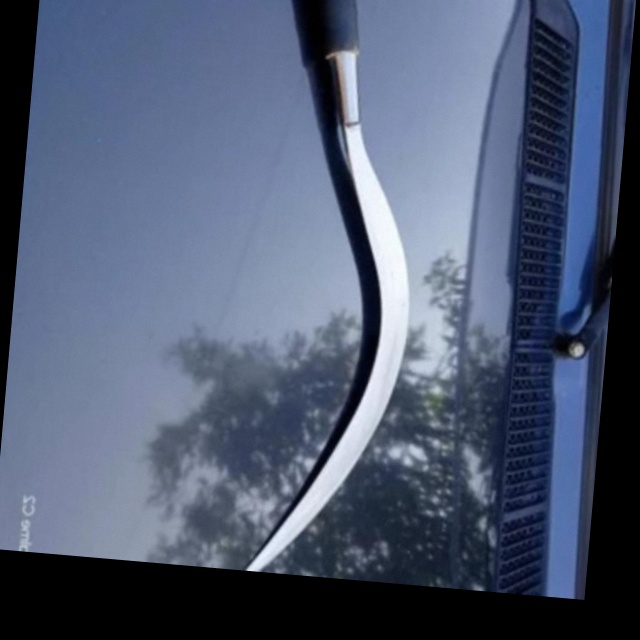Sharp-Object: (222, 0, 453, 584)
